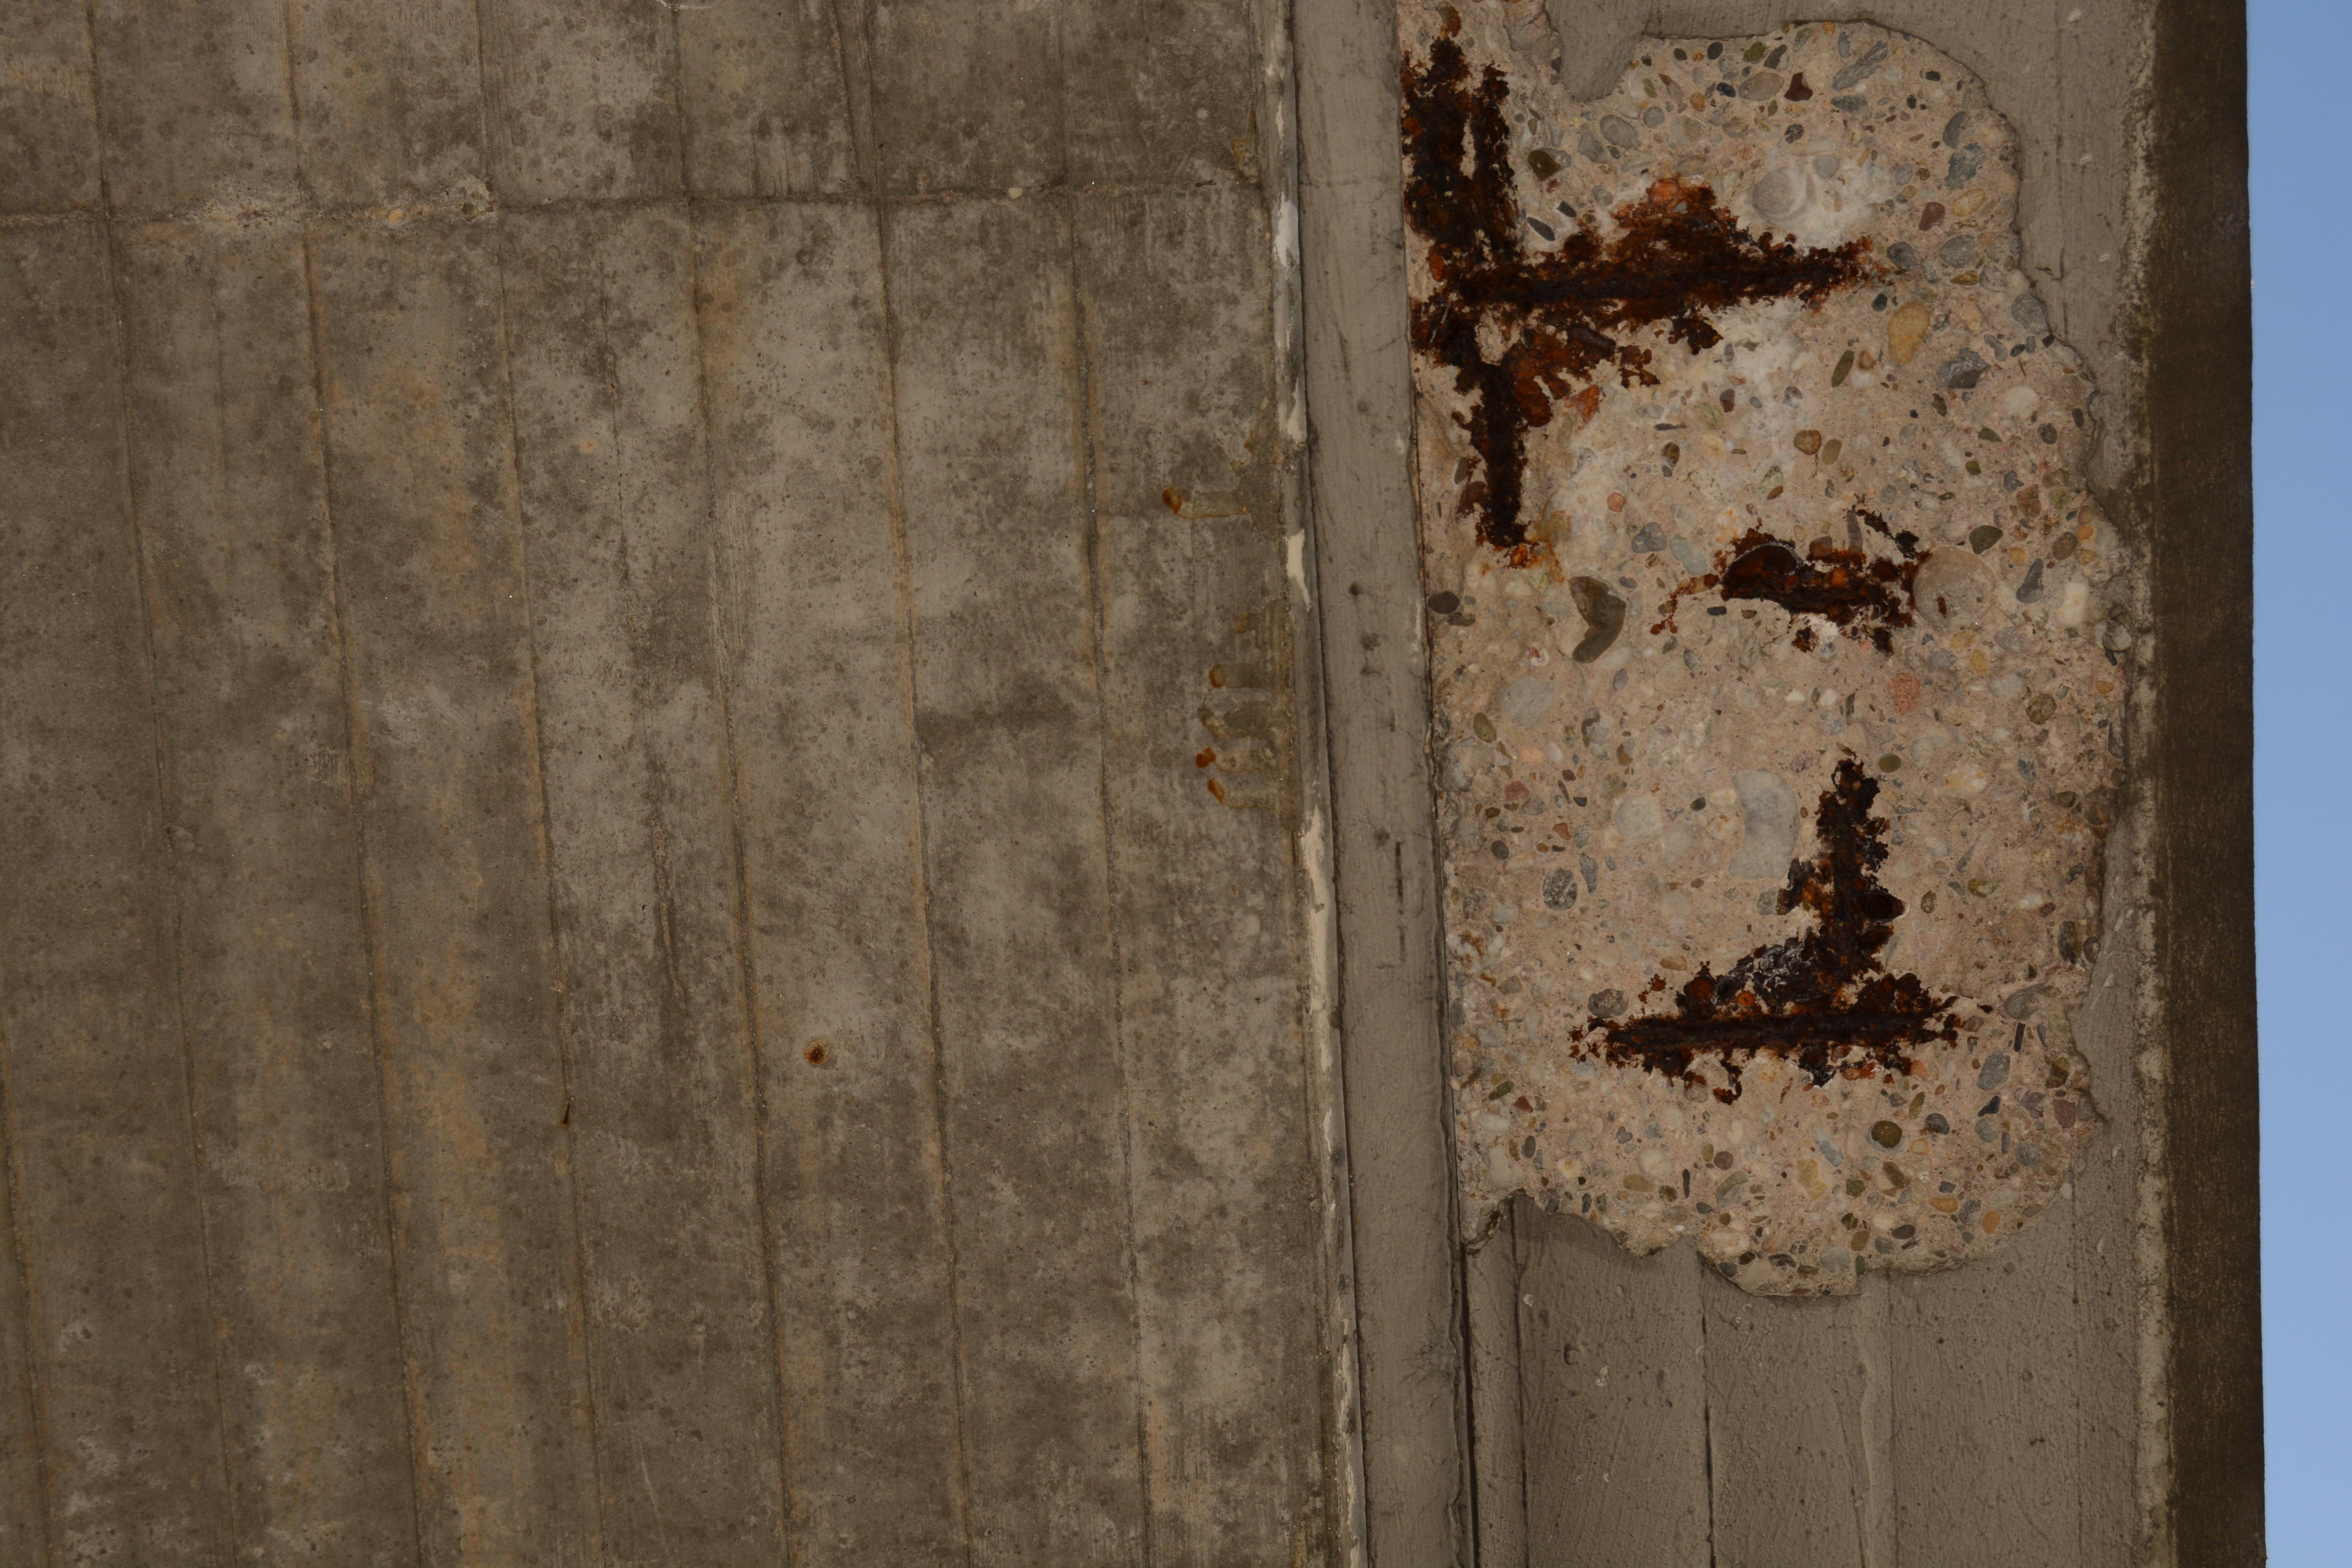rebar: (1426, 257, 1874, 310), (1600, 996, 1946, 1061), (1806, 761, 1899, 994), (1717, 536, 1928, 630), (1451, 311, 1529, 549), (1407, 35, 1470, 254), (1472, 65, 1524, 256)
spall: (1400, 0, 2146, 1304)
